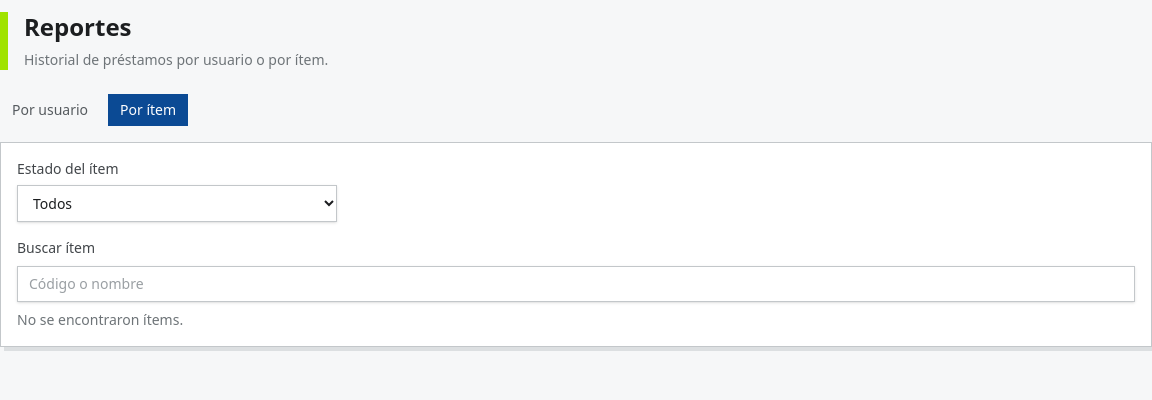
ItemHistoryPage › permite listar solo los ítems dañados o dados de baja
The width and height of the screenshot is (1152, 400).
Select "Dañados (fuera de servicio)" in the dropdown labelled "Estado del ítem": (177, 204) [17,185,337,222]
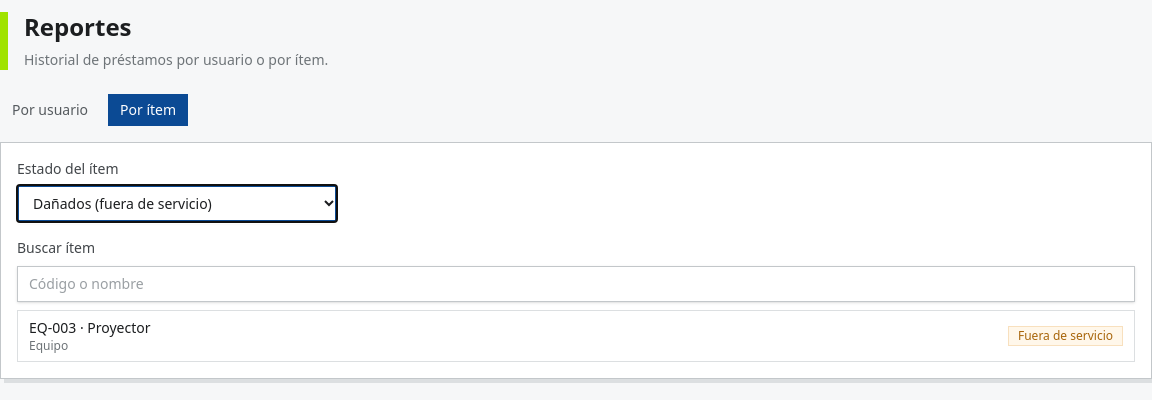
Result: the text "EQ-003 · Proyector" is shown at [29,318,150,337]
